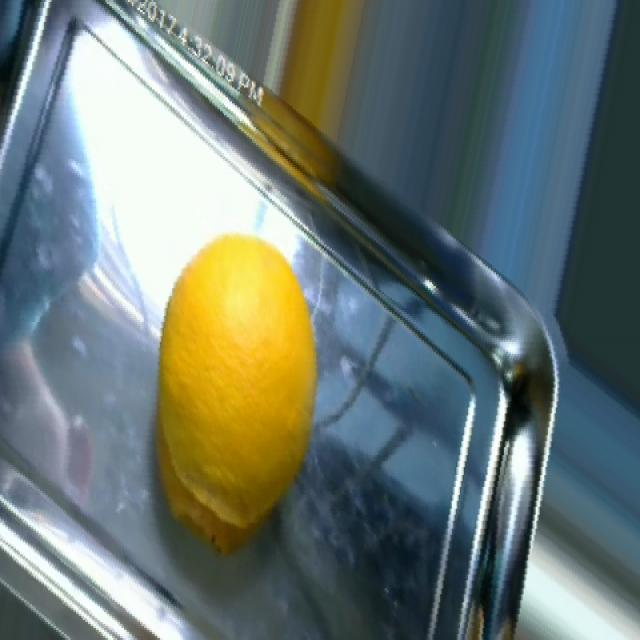Fruit: (152, 220, 320, 562), (265, 0, 383, 147)
